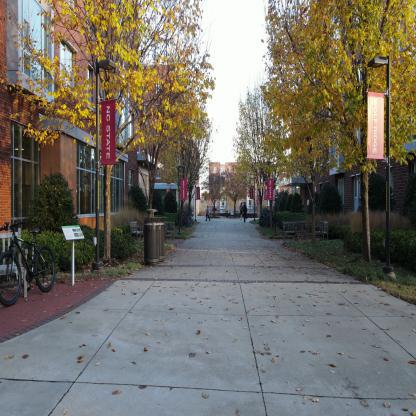Wolf Ridge: (0, 26, 193, 286), (284, 18, 415, 303), (202, 148, 284, 227)
